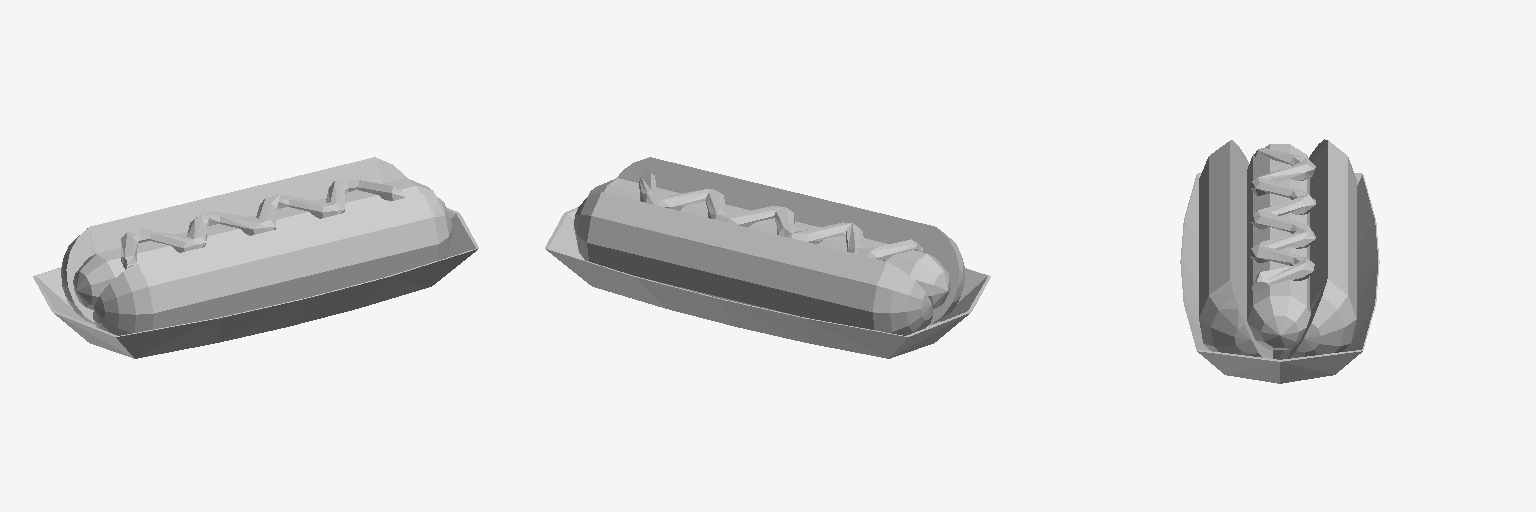
File: hotdog.obj
3 views of the same model, side by side, from view 1: azimuth 30°, elevation 25°; view 2: azimuth 150°, elevation 25°; view 3: azimuth 270°, elevation 25° (orthographic).
Parts seen in each view (by area): view 1: Hotdog_Sphere; view 2: Hotdog_Sphere; view 3: Hotdog_Sphere.
Boxes of the visible parts, box(x1,y1,x2,y2) form: Hotdog_Sphere: box(33, 157, 478, 358); Hotdog_Sphere: box(545, 157, 990, 358); Hotdog_Sphere: box(1180, 139, 1379, 383).
Size of the model in its own units: 3.97 by 0.8679 by 1.68.